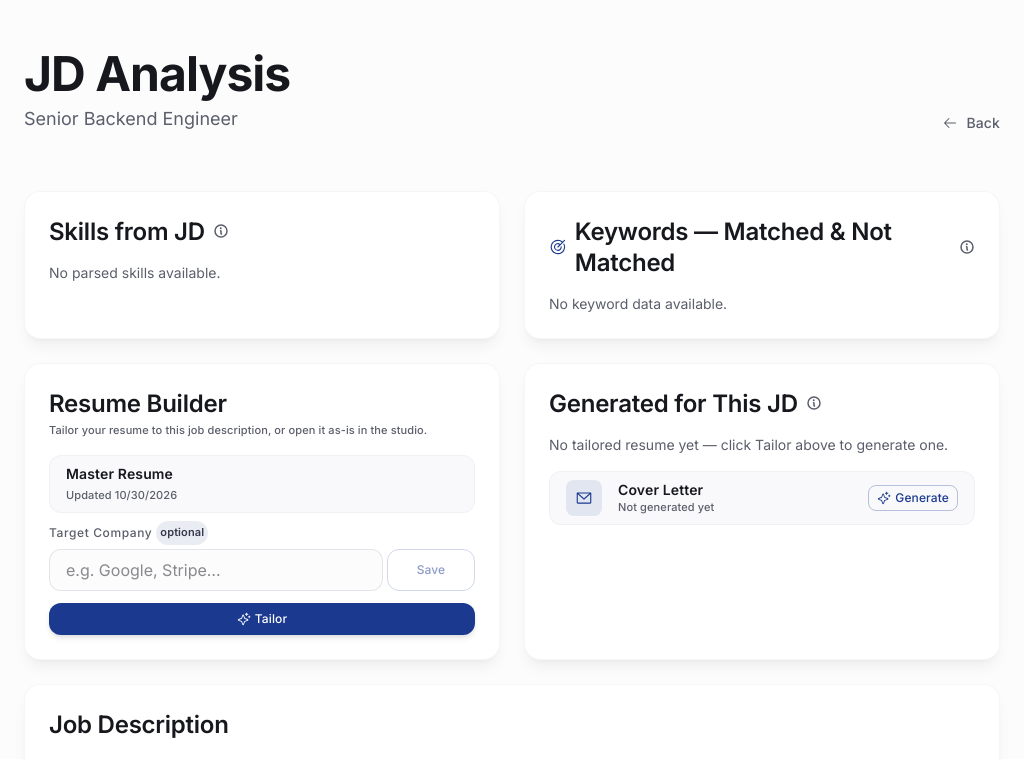
JDPage — Tailor with a target company › saves the typed company to this JD
The width and height of the screenshot is (1024, 759).
Expected: the button with aria-label "Save company" is disabled, 387,549 -> 475,591
Type " Stripe " into the field labelled "Target Company optional".
click(216, 570); type(" Stripe ")  # box 49,549 -> 383,591
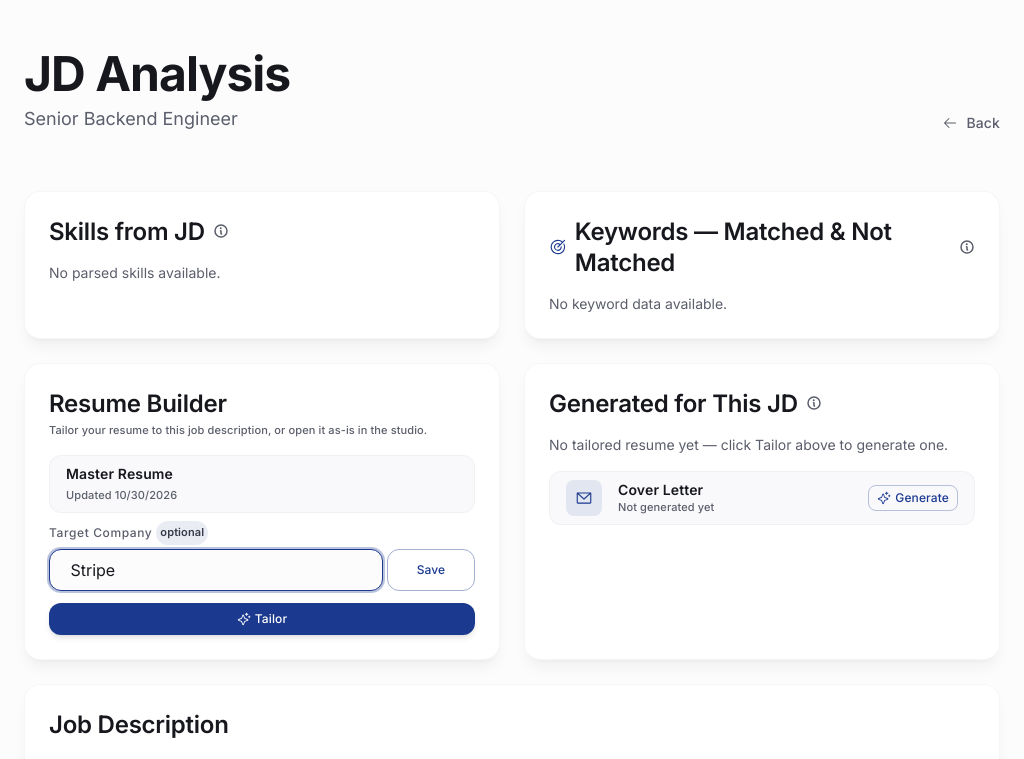
Click the button with aria-label "Save company".
click(431, 570)  # box 387,549 -> 475,591
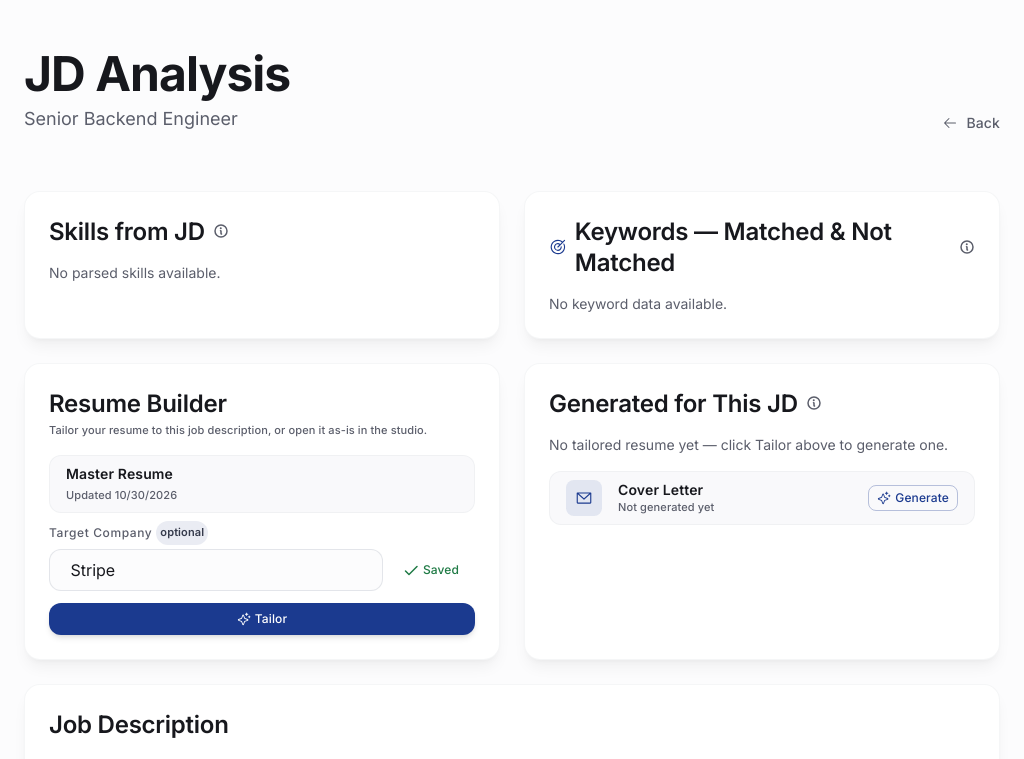
Now the button with aria-label "company saved" is shown, box 387,549 -> 475,591
